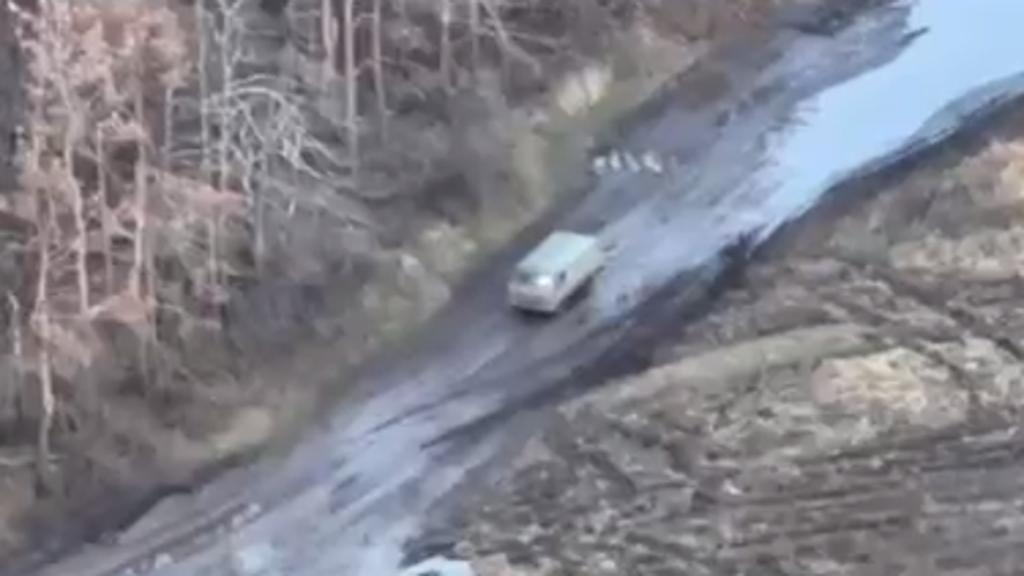CAR: (508, 228, 600, 316)
